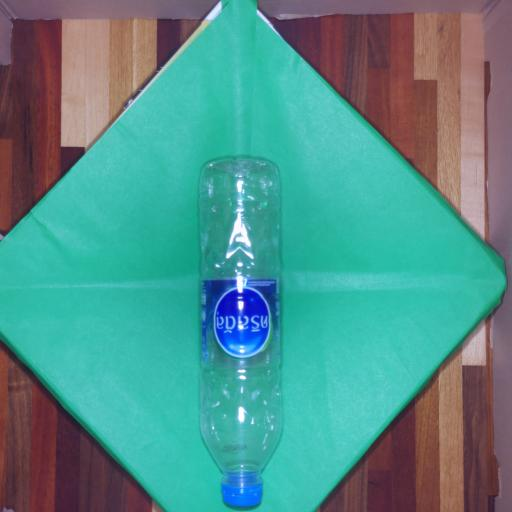bottle: (182, 145, 301, 512)
